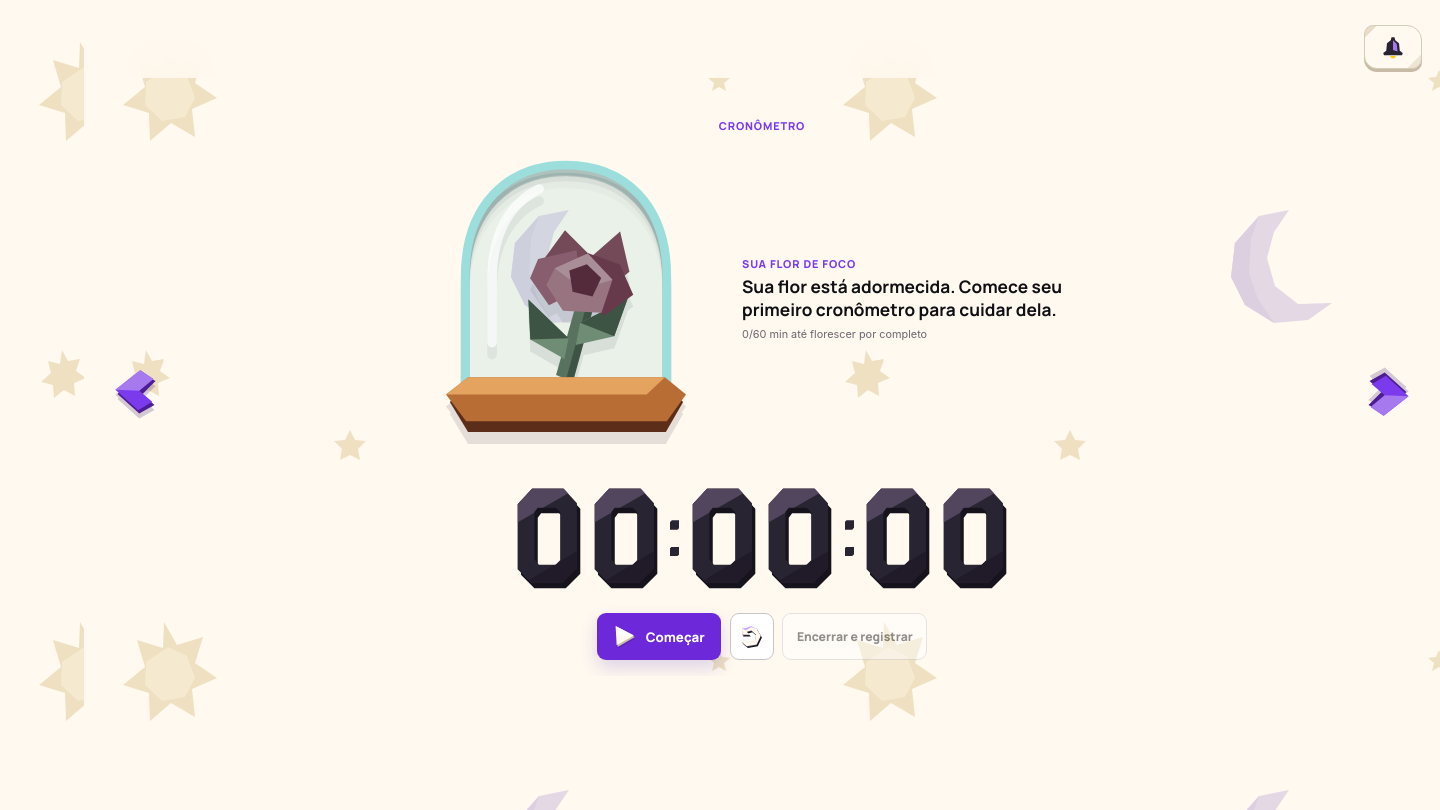
Test: pausa timer após suspensão sem criar ciclos
The width and height of the screenshot is (1440, 810).
Click the button "Começar": [659, 637] box [597, 613, 721, 660]
Wait 10250 ms
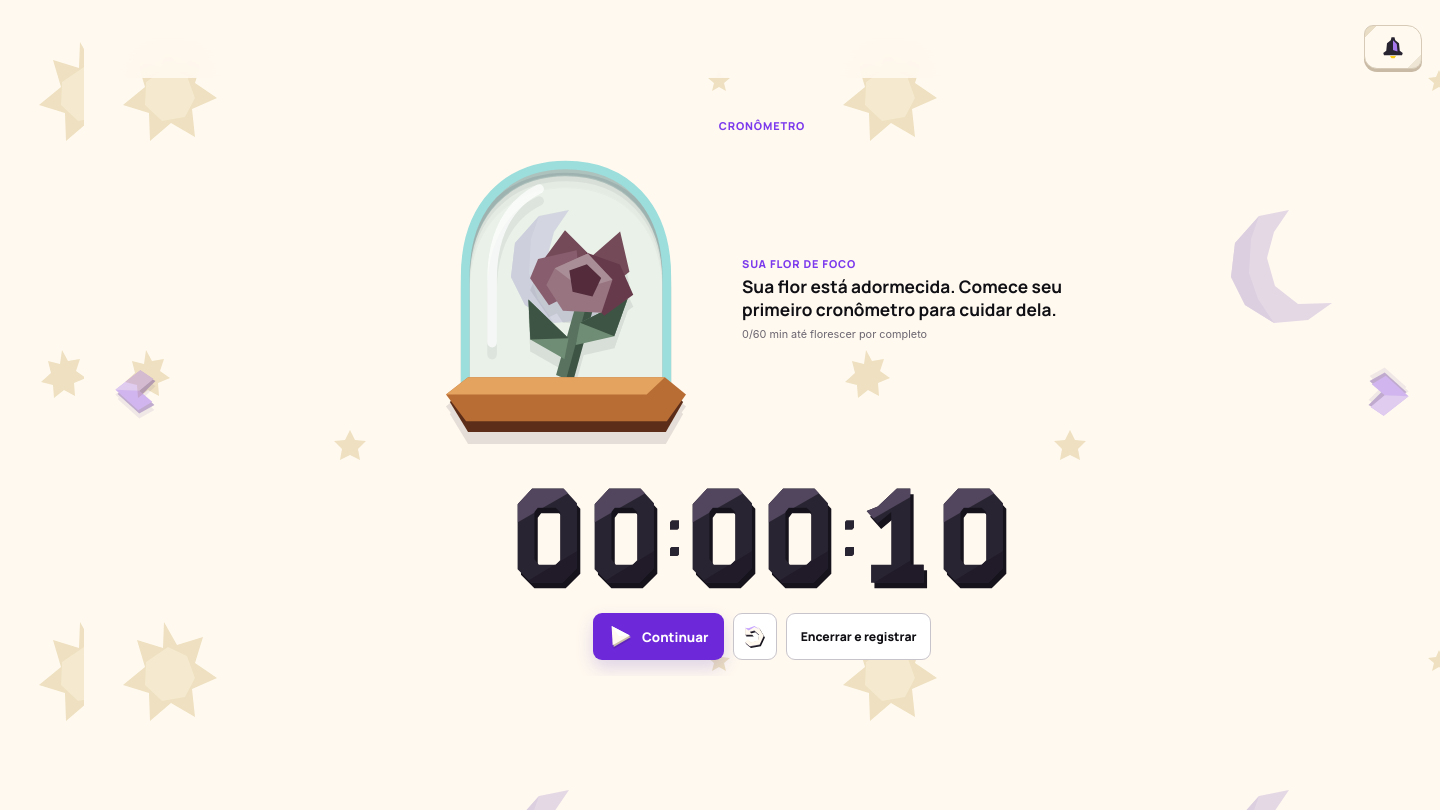
Result: the button "Continuar" is shown
Click the button "Continuar": [659, 637] box [593, 613, 724, 660]
Wait 1000 ms
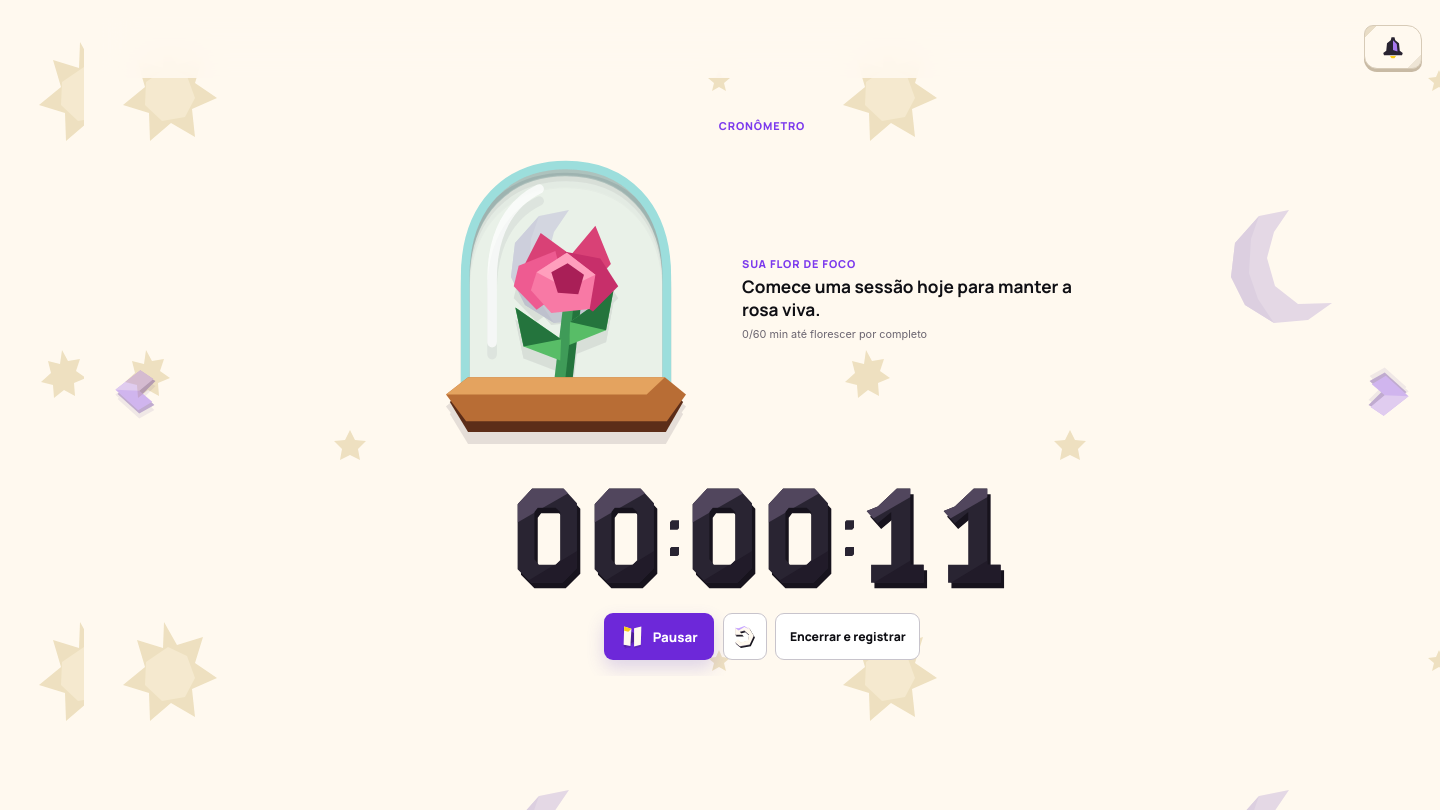
Result: the button "Pausar" is shown at [604, 613, 714, 660]
